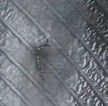CBU: (29, 32, 57, 86)
